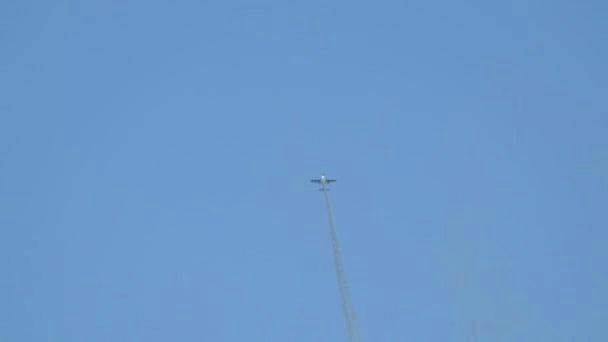Plane: (296, 167, 349, 199)
